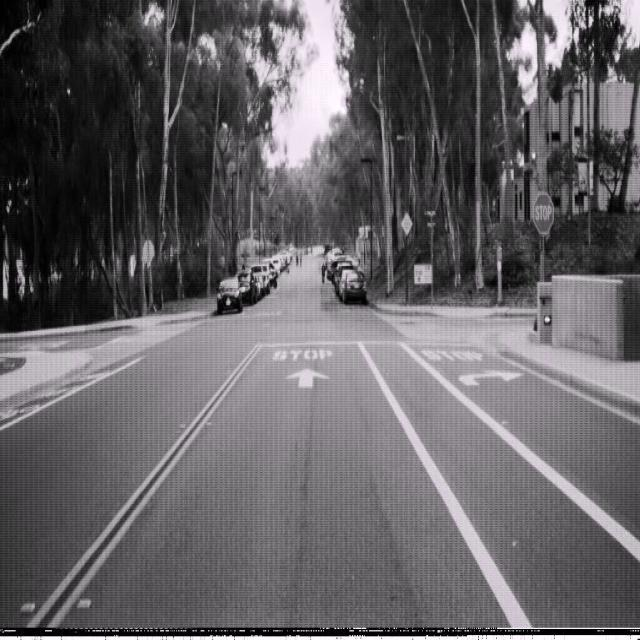stop: (532, 192, 554, 236)
